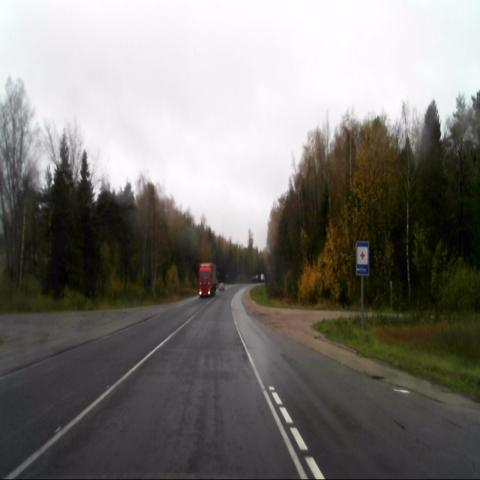7_1: (356, 241, 370, 276)
